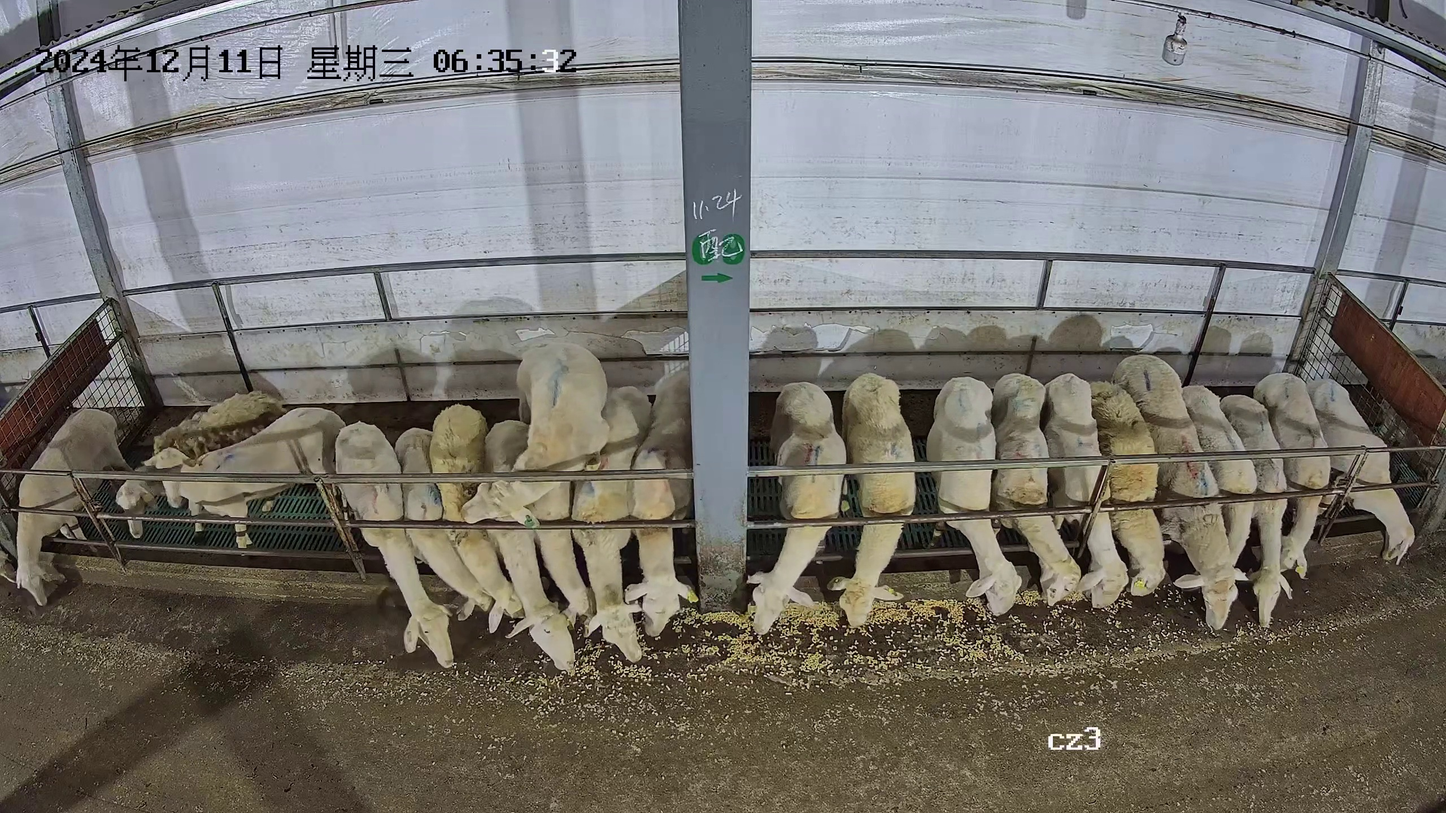Nmounting: (457, 336, 622, 659)
